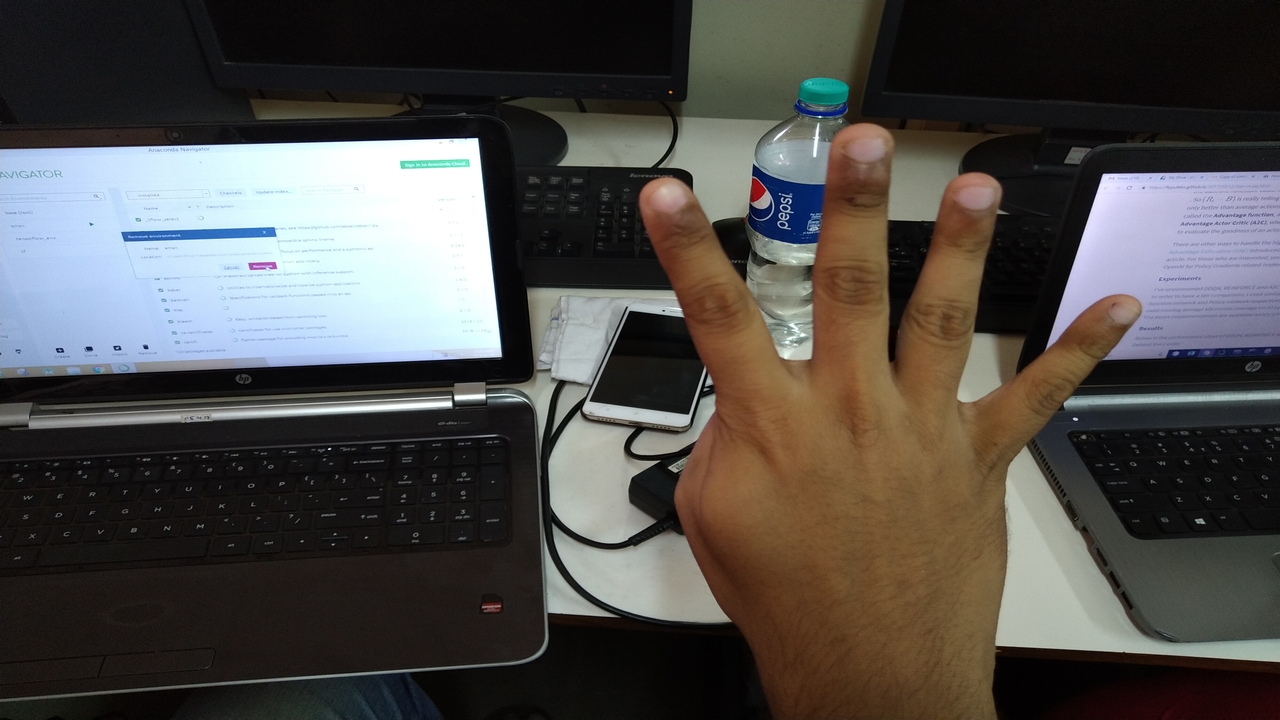fingertip: (942, 162, 1006, 224), (836, 122, 902, 182), (644, 172, 700, 234), (1081, 288, 1142, 330)
